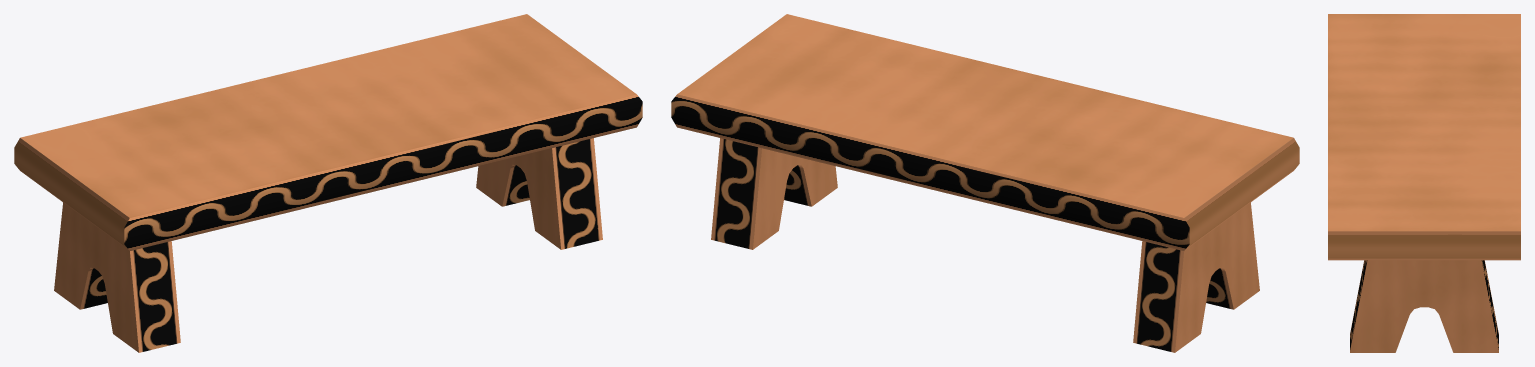
Rendered from M_CardboardAssets_Bench.fbx.
3 renders of one model, left to right at view 1: azimuth 30°, elevation 25°; view 2: azimuth 150°, elevation 25°; view 3: azimuth 270°, elevation 25°, orthographic. The views are drawn at different scales.
Parts seen in each view (by area): view 1: polySurface2, polySurface1, M_CardboardAssets_Table; view 2: polySurface2, polySurface1, M_CardboardAssets_Table; view 3: polySurface2, M_CardboardAssets_Table, polySurface1.
Boxes of the visible parts, x1=… form: polySurface2: x1=20, y1=14, x2=636, y2=217; polySurface1: x1=14, y1=94, x2=642, y2=250; M_CardboardAssets_Table: x1=54, y1=138, x2=602, y2=352; polySurface2: x1=677, y1=14, x2=1293, y2=217; polySurface1: x1=671, y1=94, x2=1299, y2=250; M_CardboardAssets_Table: x1=711, y1=138, x2=1259, y2=352; polySurface2: x1=1328, y1=14, x2=1520, y2=231; M_CardboardAssets_Table: x1=1350, y1=260, x2=1498, y2=352; polySurface1: x1=1328, y1=231, x2=1520, y2=260.
Bounding box in the file's own units: 4.09 × 1.13 × 1.5.
1 material, 1 textured.
